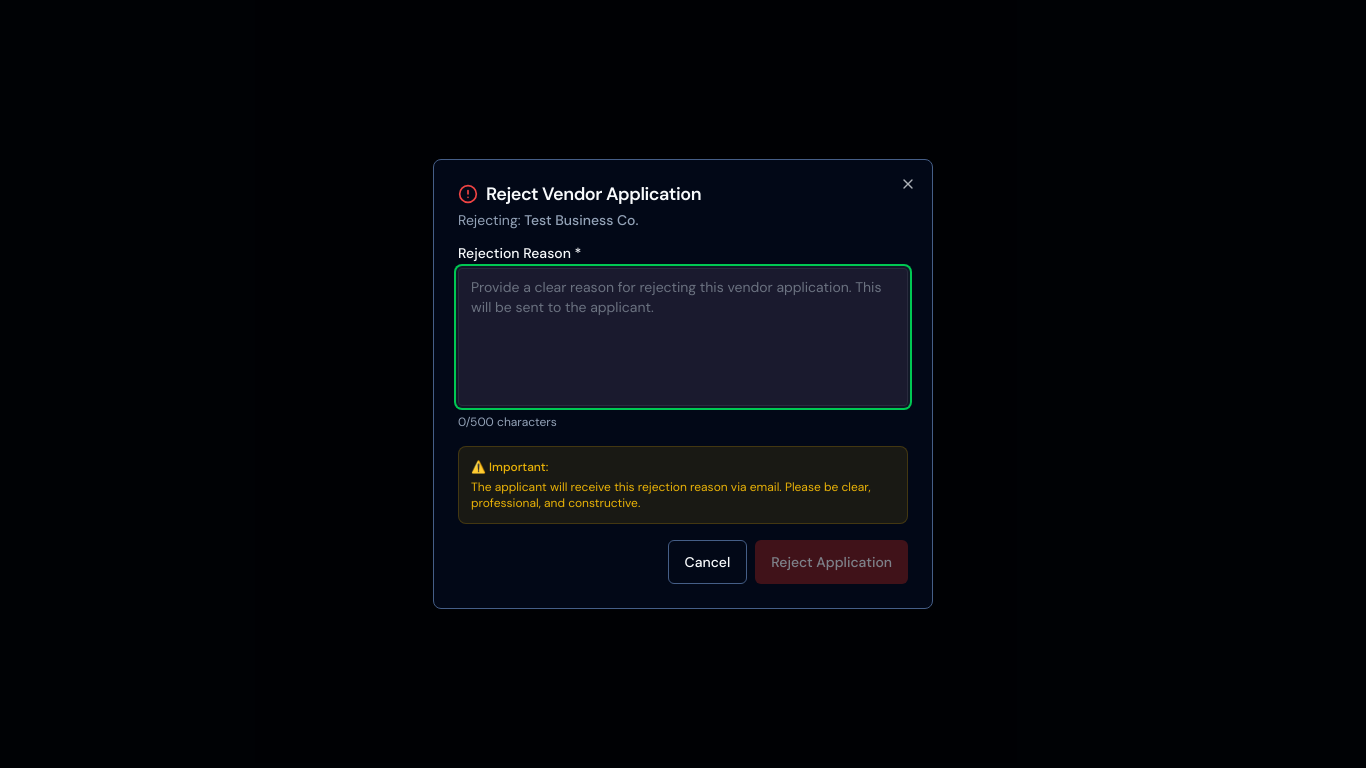
Scenario: RejectVendorModal › displays error message on submission failure
Replace the text in the text box with placeholder "Provide a clear reason" with "This is a valid rejection reason." at coordinates (683, 337), box [458,268,908,406]
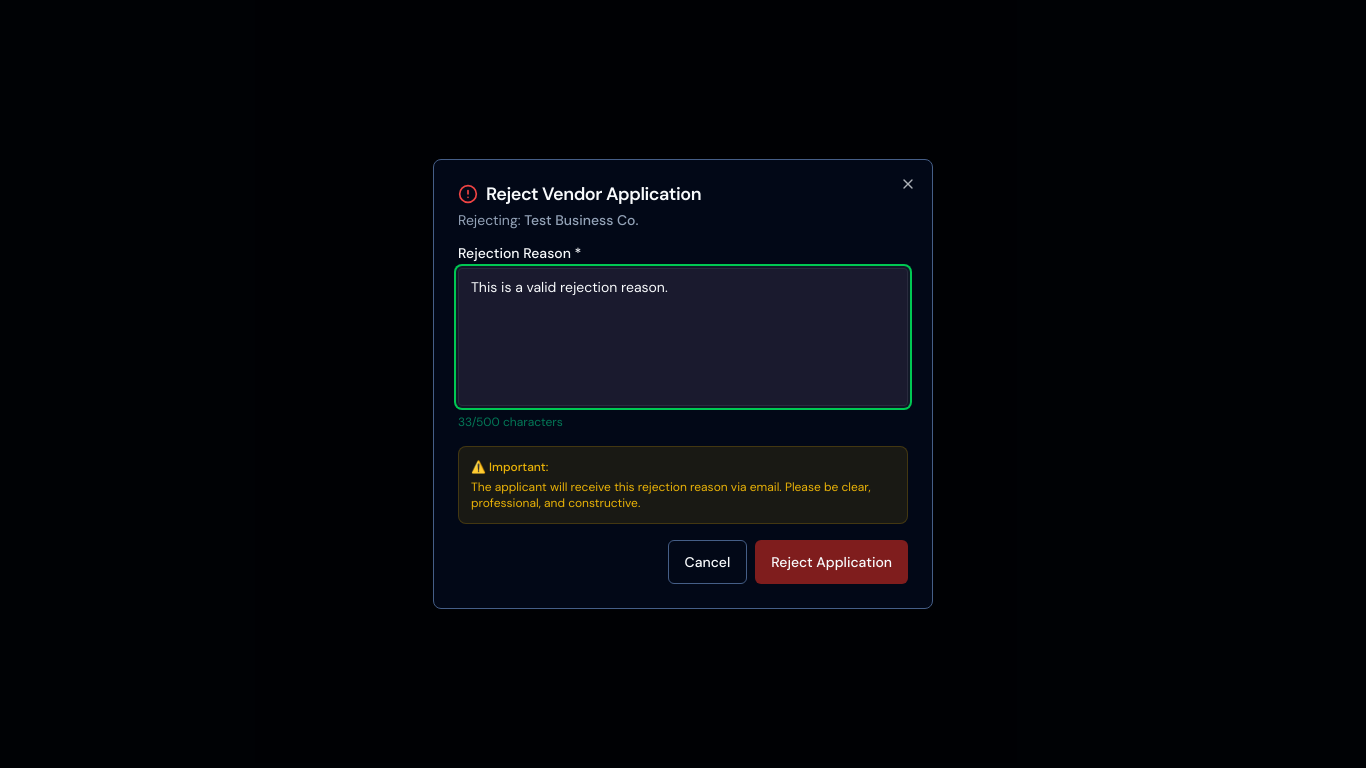
Click the button "Reject Application" at coordinates (832, 562), box [755,540,908,584]
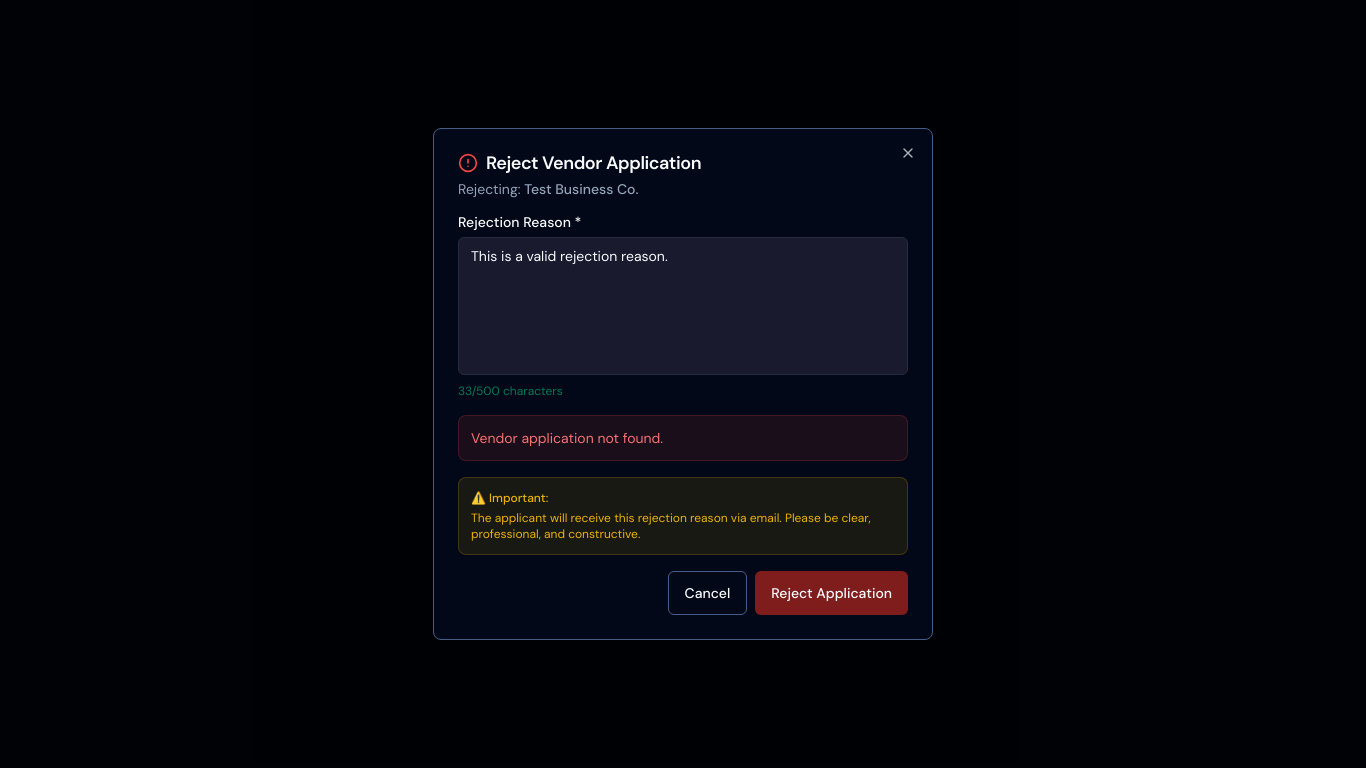
Check: the text "Vendor application not found." is shown, box [458,415,908,461]
